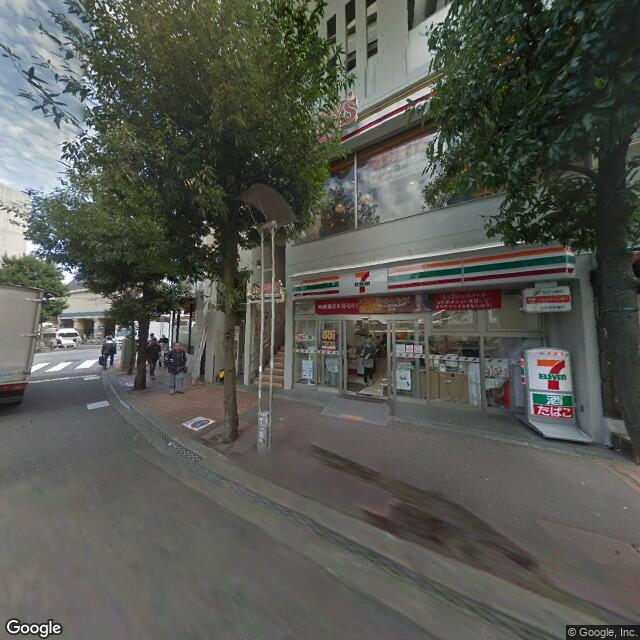7-eleven: (293, 240, 578, 303), (533, 351, 572, 396)
